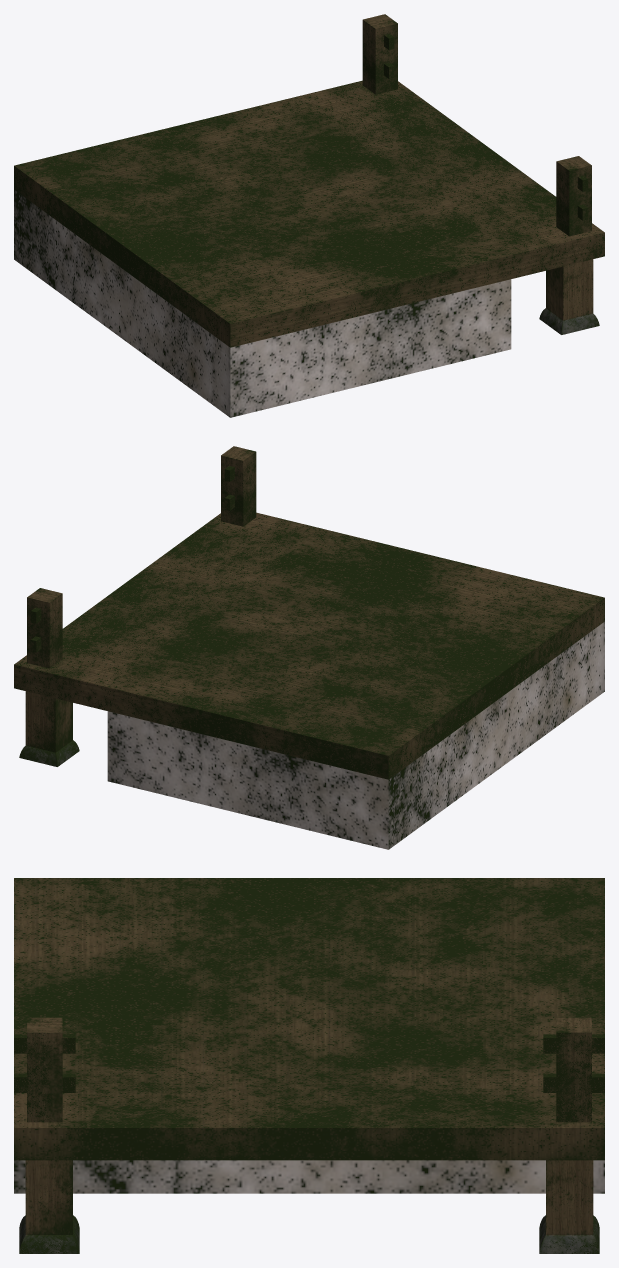
File: shrine_floor_outside_entrance_01.fbx
The picture shows the model from 3 angles, top to bottom: view 1: azimuth 30°, elevation 25°; view 2: azimuth 150°, elevation 25°; view 3: azimuth 270°, elevation 25°; orthographic projection. The views are drawn at different scales.
Visible parts, largest first — view 1: shrine_floor_outside_entrance_01; view 2: shrine_floor_outside_entrance_01; view 3: shrine_floor_outside_entrance_01.
Boxes of the visible parts, x1=… form: shrine_floor_outside_entrance_01: x1=14, y1=14, x2=604, y2=417; shrine_floor_outside_entrance_01: x1=14, y1=446, x2=604, y2=849; shrine_floor_outside_entrance_01: x1=14, y1=878, x2=604, y2=1253.
Size of the model in its own units: 330 by 134 by 330.
Materials: 1 (1 with a texture image).
